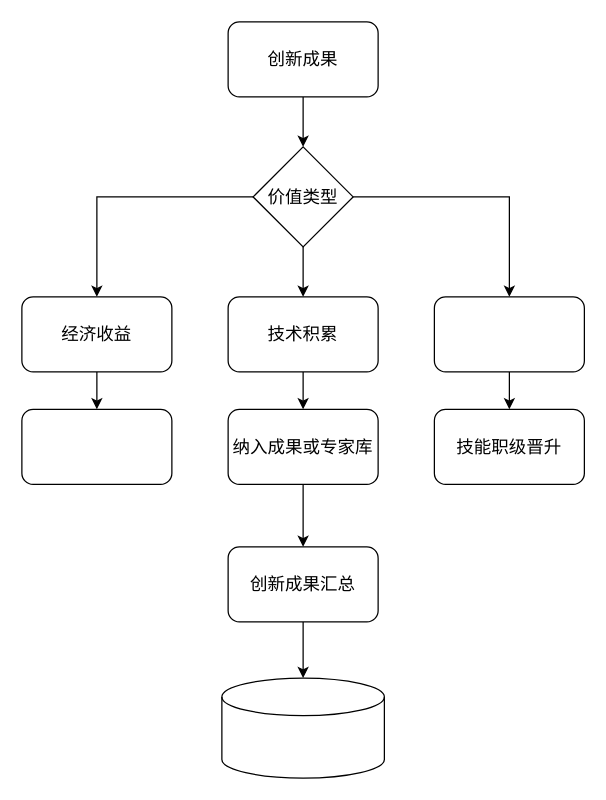
The diagram is 606 pixels wide and 800 high, and some of its shapes have lost their labels. Here are the shapes that lost their labels. From the top down, the centre of each, then its label:
At [508,334]: "人才成长".
At [96,446]: "项目奖励".
At [302,727]: "年度创新达人、评选先进、创新奖励".
